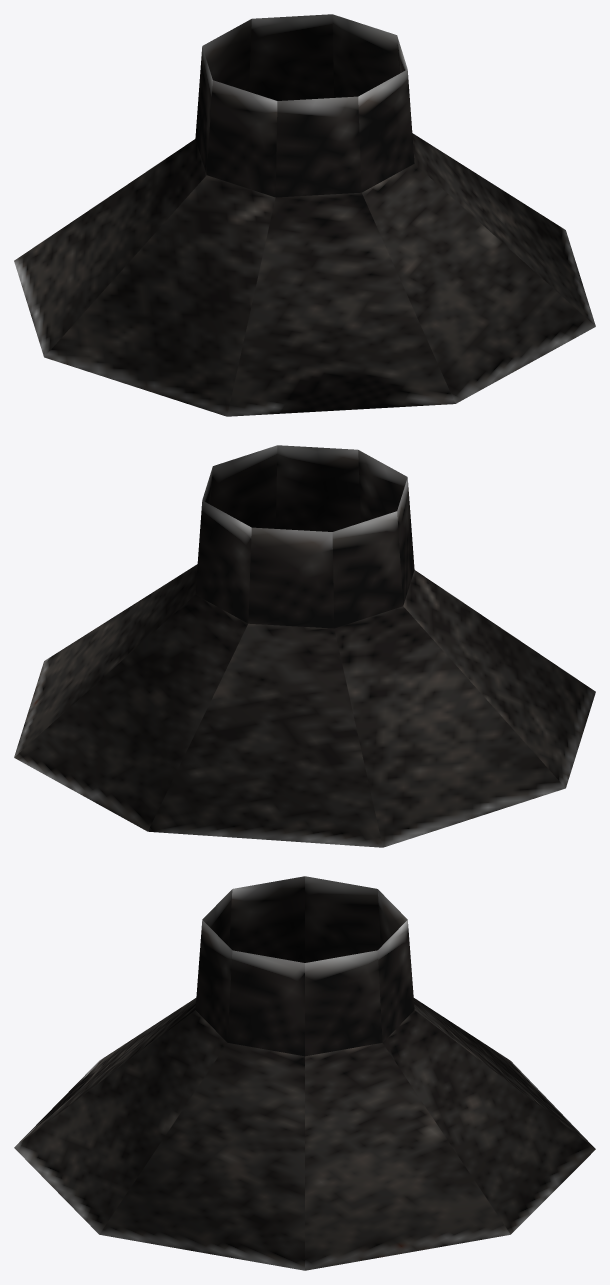
Rendered from ceiling_lamp_col.fbx.
3 renders of one model, top to bottom at view 1: azimuth 30°, elevation 25°; view 2: azimuth 150°, elevation 25°; view 3: azimuth 270°, elevation 25°, orthographic. The views are drawn at different scales.
Visible parts, largest first — view 1: lamp_head_col; view 2: lamp_head_col; view 3: lamp_head_col.
Part boxes in pixels (x1,y1,x2,y2): lamp_head_col: (14,14,595,416); lamp_head_col: (14,445,595,847); lamp_head_col: (14,876,595,1270).
Size of the model in its own units: 200 by 86.48 by 200.
